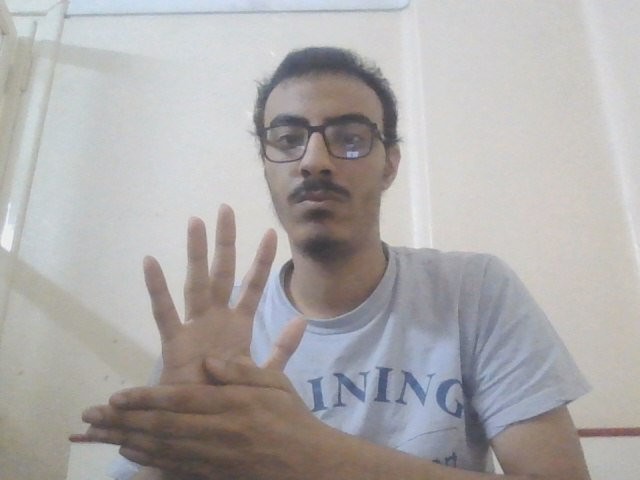Movie: (77, 201, 337, 480)
